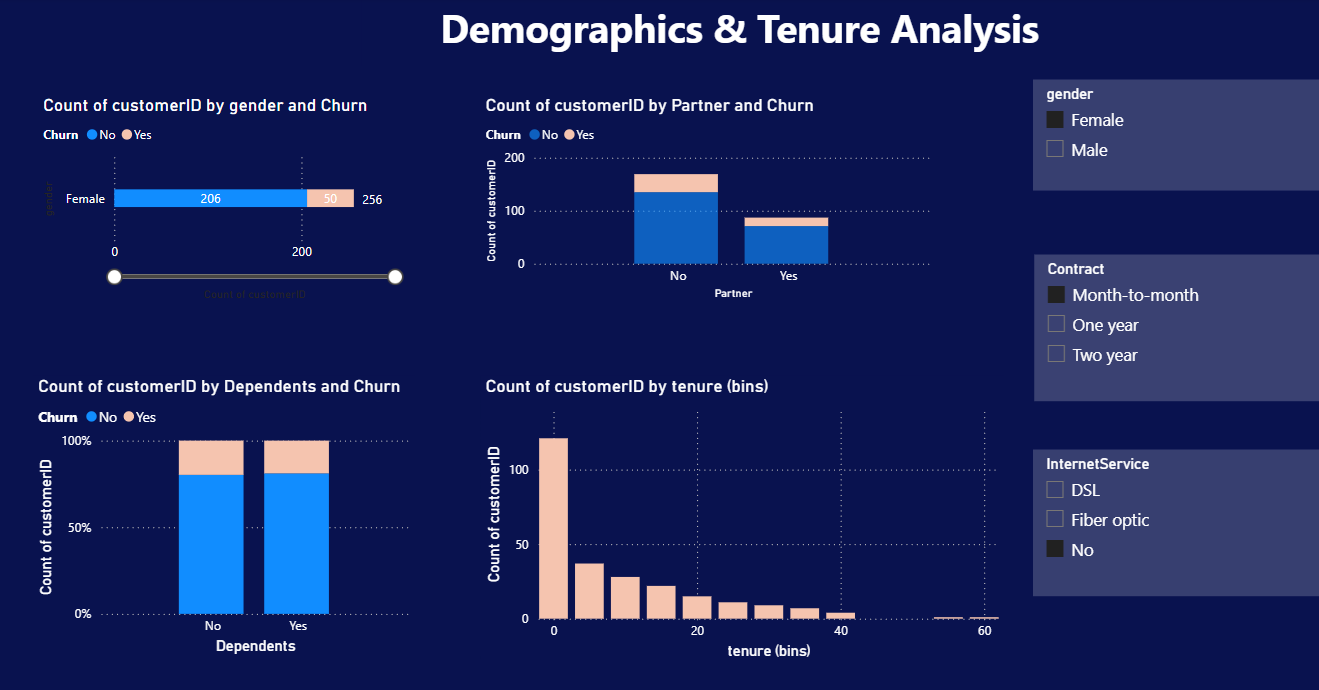

The page's visual inventory and layout, read from the dashboard file:
{"tool":"powerbi","page":{"name":"Page 2","canvas":[1280,720],"ordinal":1},"visuals":[{"type":"barChart","fields":{"Category":["Telco_Customer_Churn_Dataset  (2).gender"],"Y":["CountNonNull(Telco_Customer_Churn_Dataset  (2).customerID)"],"Series":["Telco_Customer_Churn_Dataset  (2).Churn"]},"box":[38.2,93.6,359.8,203.3],"z":0},{"type":"columnChart","fields":{"Series":["Telco_Customer_Churn_Dataset  (2).Churn"],"Category":["Telco_Customer_Churn_Dataset  (2).Partner"],"Y":["CountNonNull(Telco_Customer_Churn_Dataset  (2).customerID)"]},"box":[465.8,93.6,441.1,203.3],"z":1000},{"type":"hundredPercentStackedColumnChart","fields":{"Y":["CountNonNull(Telco_Customer_Churn_Dataset  (2).customerID)"],"Series":["Telco_Customer_Churn_Dataset  (2).Churn"],"Category":["Telco_Customer_Churn_Dataset  (2).Dependents"]},"box":[33.3,366,368.4,273.5],"z":2000},{"type":"clusteredColumnChart","fields":{"Category":["Telco_Customer_Churn_Dataset  (2).tenure (bins)"],"Y":["CountNonNull(Telco_Customer_Churn_Dataset  (2).customerID)"]},"box":[465.8,366,505.2,278.5],"z":3000},{"type":"slicer","fields":{"Values":["Telco_Customer_Churn_Dataset  (2).gender"]},"box":[999.3,80.1,280.9,107.2],"z":4000},{"type":"slicer","fields":{"Values":["Telco_Customer_Churn_Dataset  (2).Contract"]},"box":[1000.5,248.9,279.7,141.7],"z":5000},{"type":"slicer","fields":{"Values":["Telco_Customer_Churn_Dataset  (2).InternetService"]},"box":[999.3,436.2,280.9,141.7],"z":6000},{"type":"textbox","box":[351.2,0,729.5,66.5],"z":7000}]}

Visuals, with their boxes on the page's 1280x720 design canvas (x1, y1, x2, y2). These are canvas units, not pixel positions in the 1319x690 screenshot, which may show the page scaled, cropped or inside an application window:
barChart - Telco_Customer_Churn_Dataset  (2).gender x CountNonNull(Telco_Customer_Churn_Dataset  (2).customerID): x1=38 y1=94 x2=398 y2=297
columnChart - Telco_Customer_Churn_Dataset  (2).Churn x Telco_Customer_Churn_Dataset  (2).Partner: x1=466 y1=94 x2=907 y2=297
hundredPercentStackedColumnChart - CountNonNull(Telco_Customer_Churn_Dataset  (2).customerID) x Telco_Customer_Churn_Dataset  (2).Churn: x1=33 y1=366 x2=402 y2=640
clusteredColumnChart - Telco_Customer_Churn_Dataset  (2).tenure (bins) x CountNonNull(Telco_Customer_Churn_Dataset  (2).customerID): x1=466 y1=366 x2=971 y2=644
slicer - Telco_Customer_Churn_Dataset  (2).gender: x1=999 y1=80 x2=1280 y2=187
slicer - Telco_Customer_Churn_Dataset  (2).Contract: x1=1000 y1=249 x2=1280 y2=391
slicer - Telco_Customer_Churn_Dataset  (2).InternetService: x1=999 y1=436 x2=1280 y2=578
textbox: x1=351 y1=0 x2=1081 y2=66
